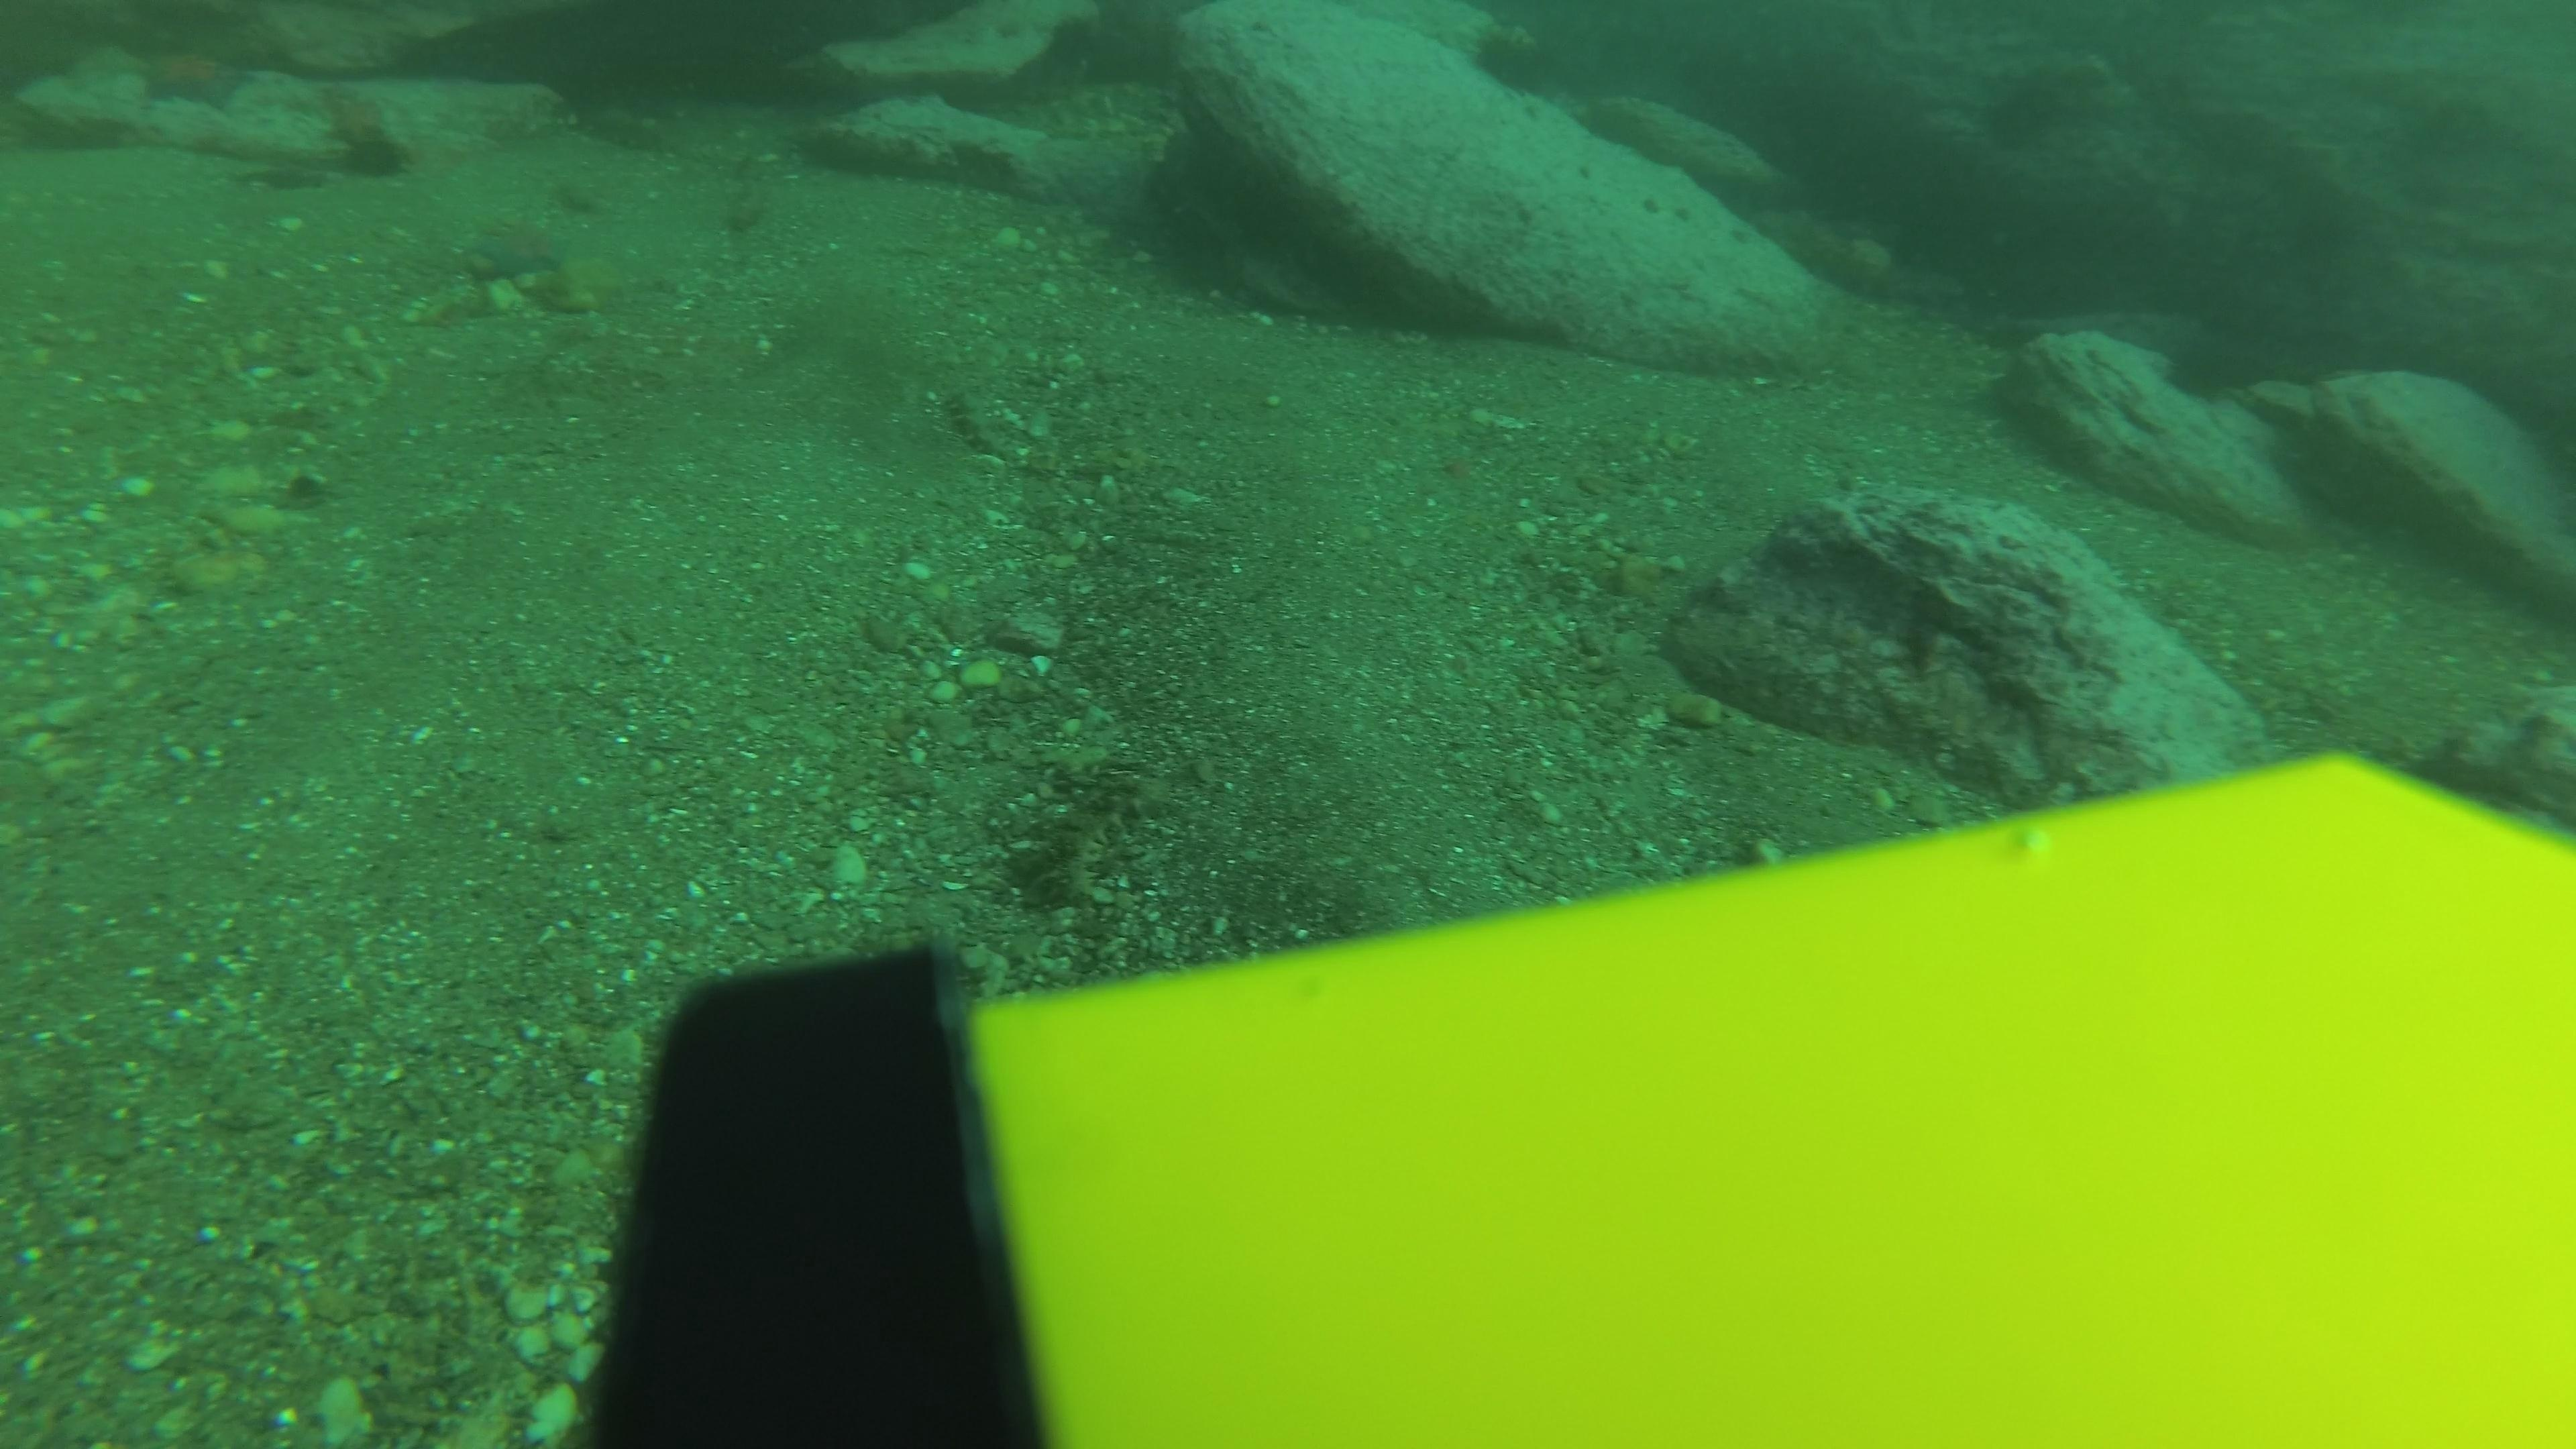echinus: (1465, 19, 1560, 97), (326, 111, 416, 184)
holothurian: (1008, 683, 1162, 906), (945, 379, 1012, 464)
starfish: (127, 42, 260, 117), (460, 216, 571, 283)
